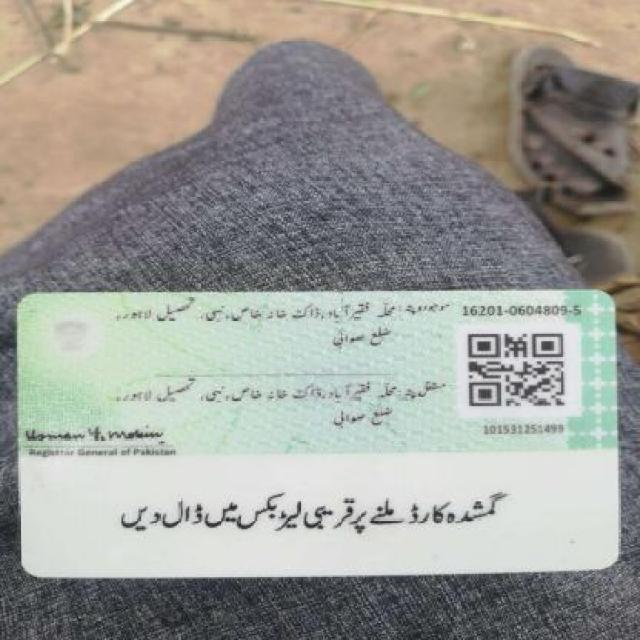Back: (11, 280, 626, 583)
